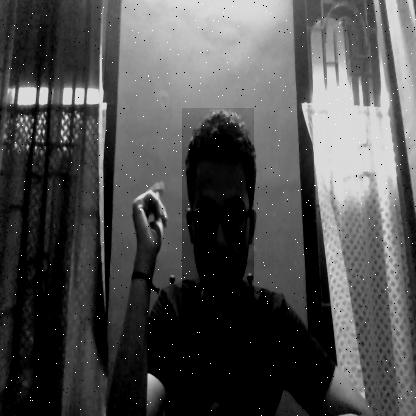Normal: (182, 108, 254, 309)
